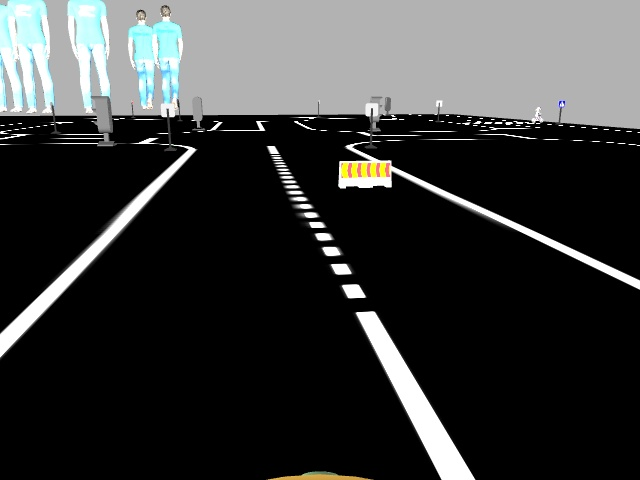ClosedRoadStand: (340, 162, 390, 186)
